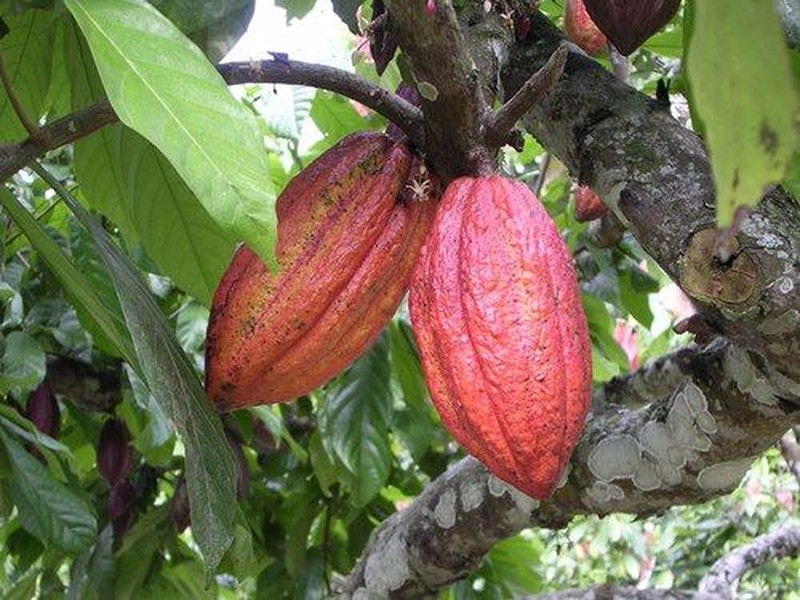Cacaopod: (408, 171, 597, 502)
